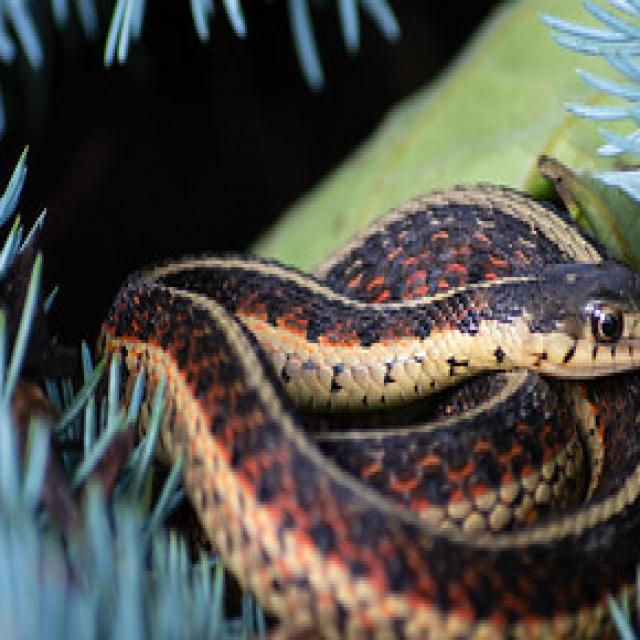Snake: (95, 155, 640, 640)
